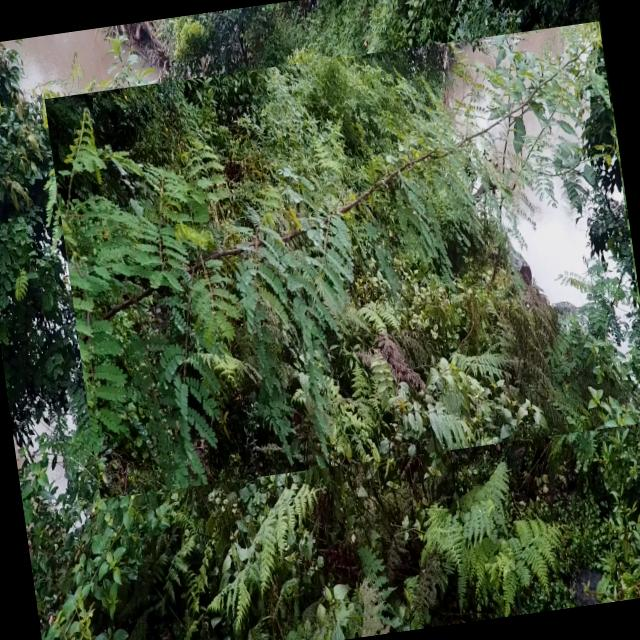Mysore-Thorn-Weed: (44, 21, 640, 499)
